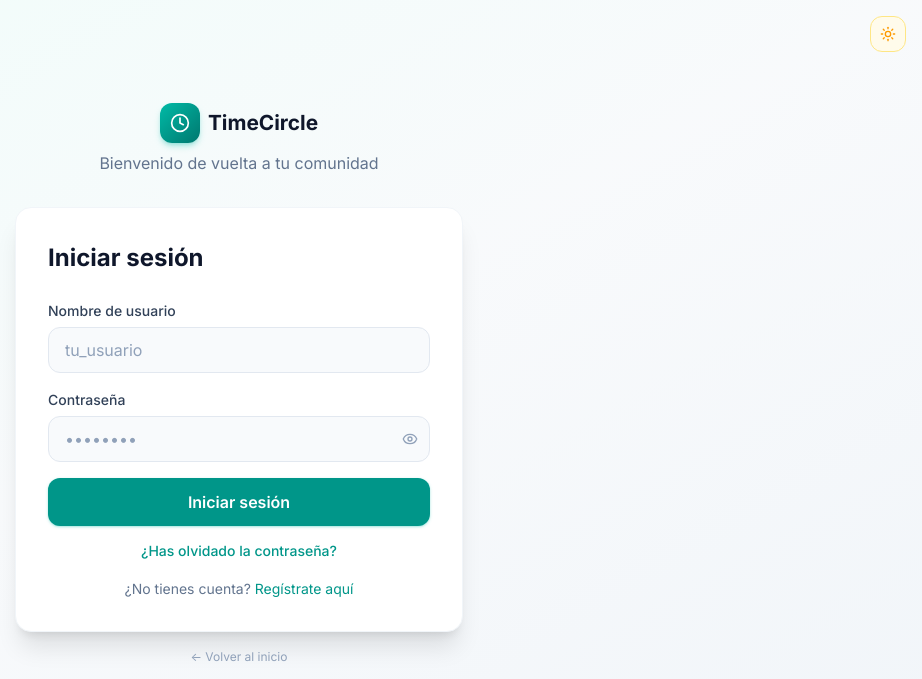
Test case: Login page › reset flow: send code then confirm reset
Note: open reset panel
Click the button "¿Has olvidado la contraseña?".
click(239, 550)  # box [141, 540, 337, 560]
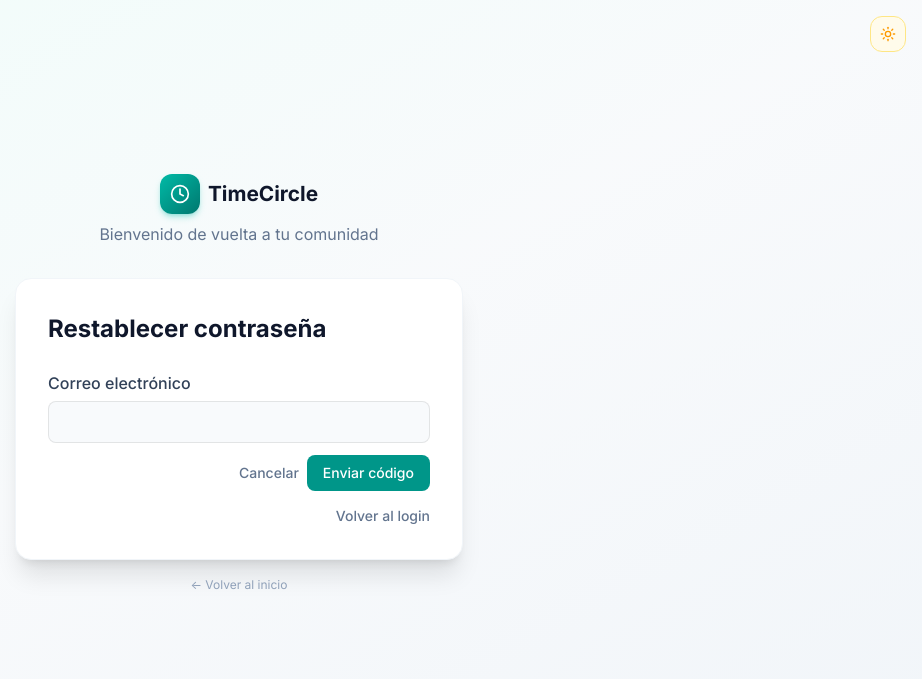
Note: send code
Type "me@example.com" into the field labelled "Correo electrónico".
click(239, 422); type("me@example.com")  # box [48, 401, 430, 443]
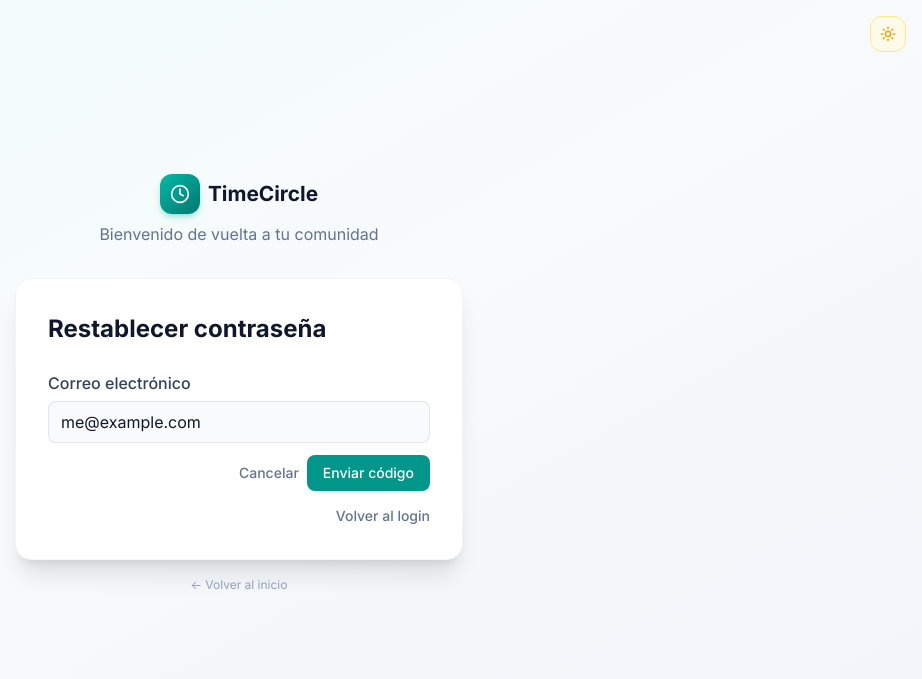
Click the button "Enviar código".
click(368, 473)  # box [307, 455, 430, 491]
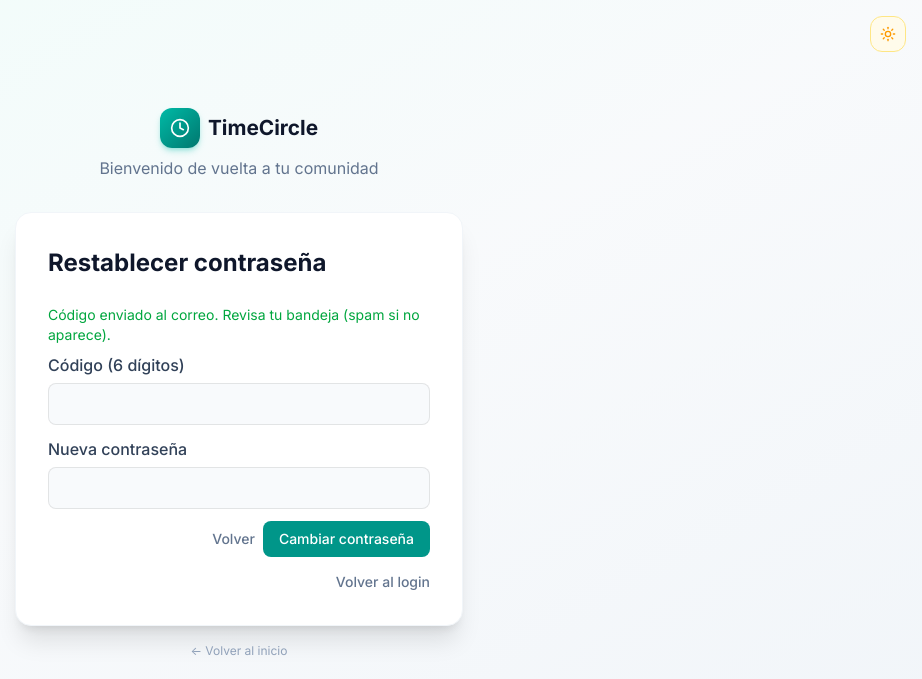
Expected: the field labelled "Código (6 dígitos)" is shown
Note: fill code and new password and confirm
Type "123456" into the field labelled "Código (6 dígitos)".
click(239, 404); type("123456")  # box [48, 383, 430, 425]
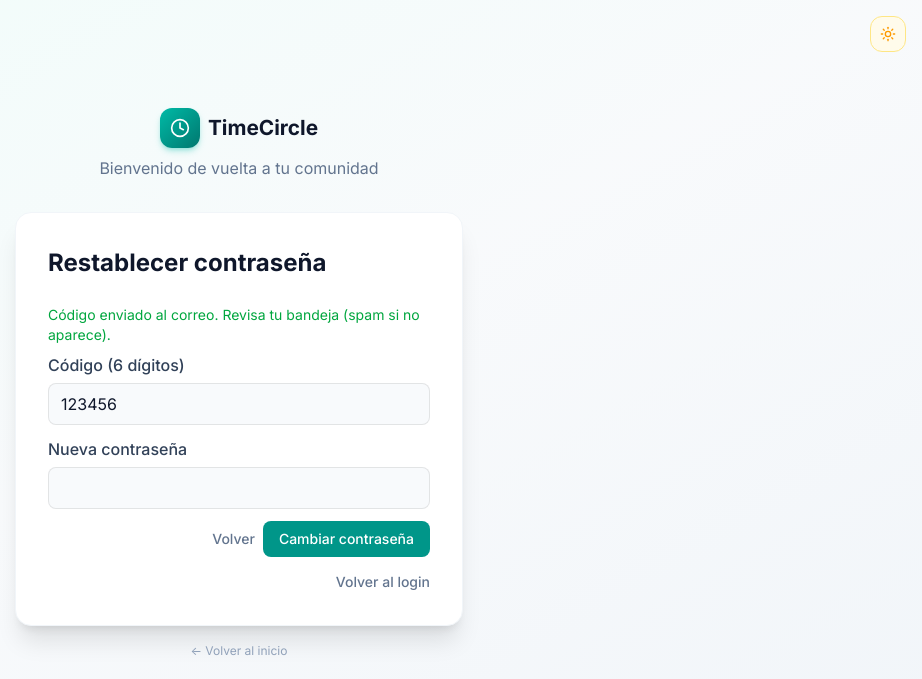
Type "newpass" into the password field labelled "Nueva contraseña".
click(239, 488); type("newpass")  # box [48, 467, 430, 509]
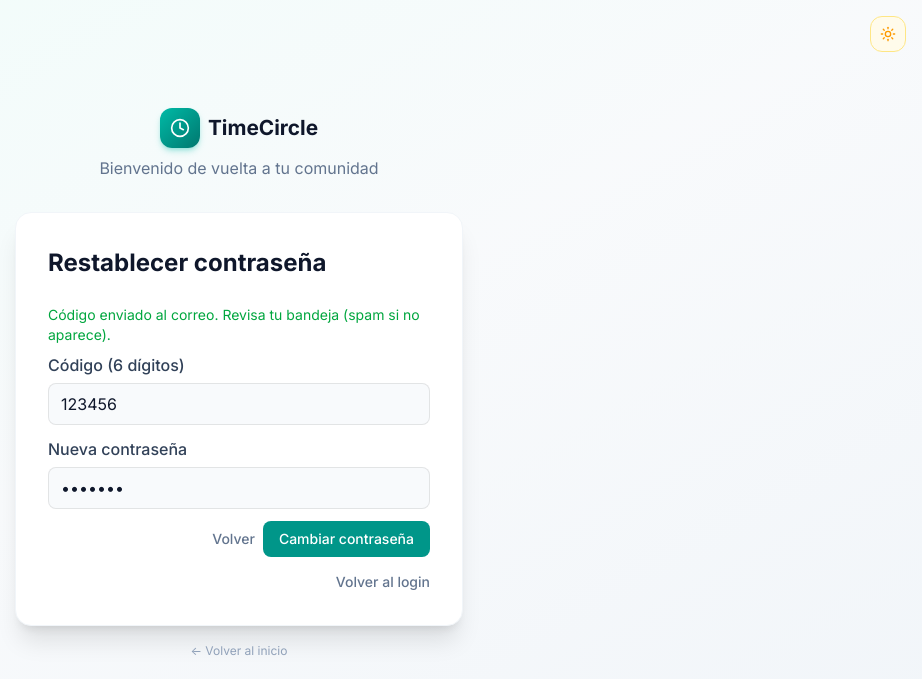
Click the button "Cambiar contraseña".
click(346, 539)  # box [263, 521, 430, 557]
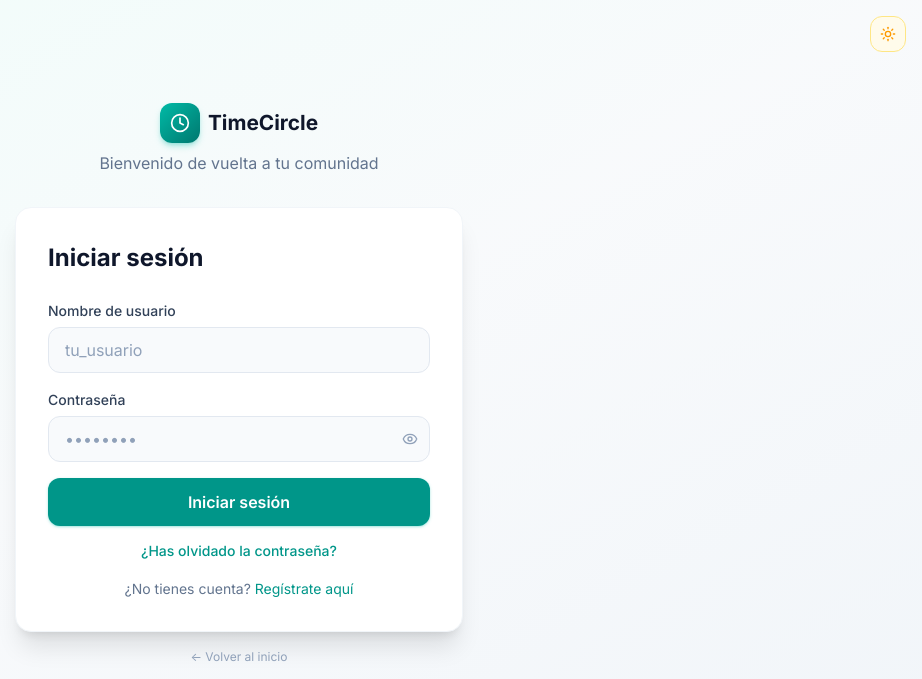
Expected: the heading "Iniciar sesión" is shown, [48, 242, 204, 272]
